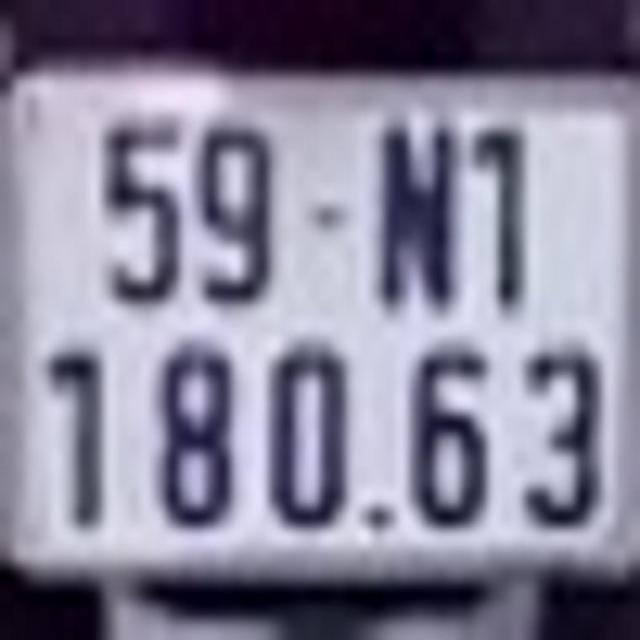0: (258, 323, 350, 528)
1: (44, 340, 110, 532), (472, 122, 530, 304)
3: (513, 335, 609, 536)
5: (94, 109, 189, 308)
6: (387, 328, 492, 537)
8: (153, 332, 234, 538)
9: (191, 104, 282, 306)
N: (368, 116, 460, 316)
